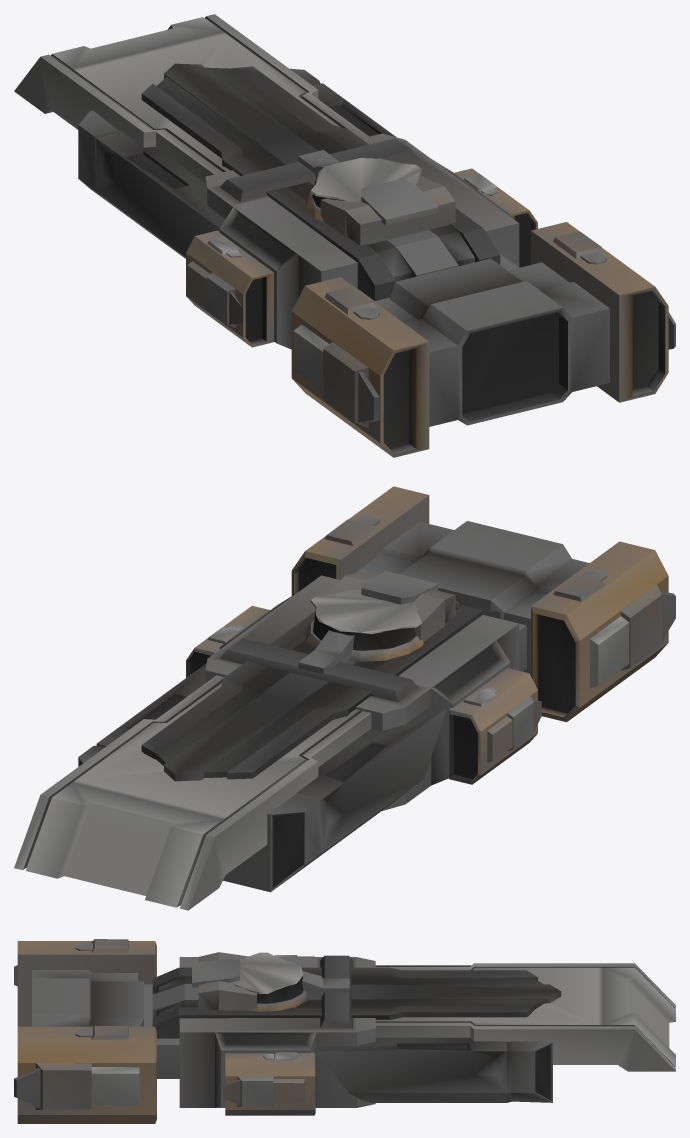
The model's file is imperial.glb.
The picture shows the model from 3 angles, top to bottom: view 1: azimuth 30°, elevation 25°; view 2: azimuth 150°, elevation 25°; view 3: azimuth 270°, elevation 25°; orthographic projection. The views are drawn at different scales.
Parts seen in each view (by area): view 1: Imperial; view 2: Imperial; view 3: Imperial.
Part boxes in pixels (left/top/right/bottom): Imperial: left=14, top=14, right=675, bottom=457; Imperial: left=14, top=486, right=675, bottom=910; Imperial: left=14, top=939, right=675, bottom=1123.
Size of the model in its own units: 0.4167 by 0.1781 by 1.
